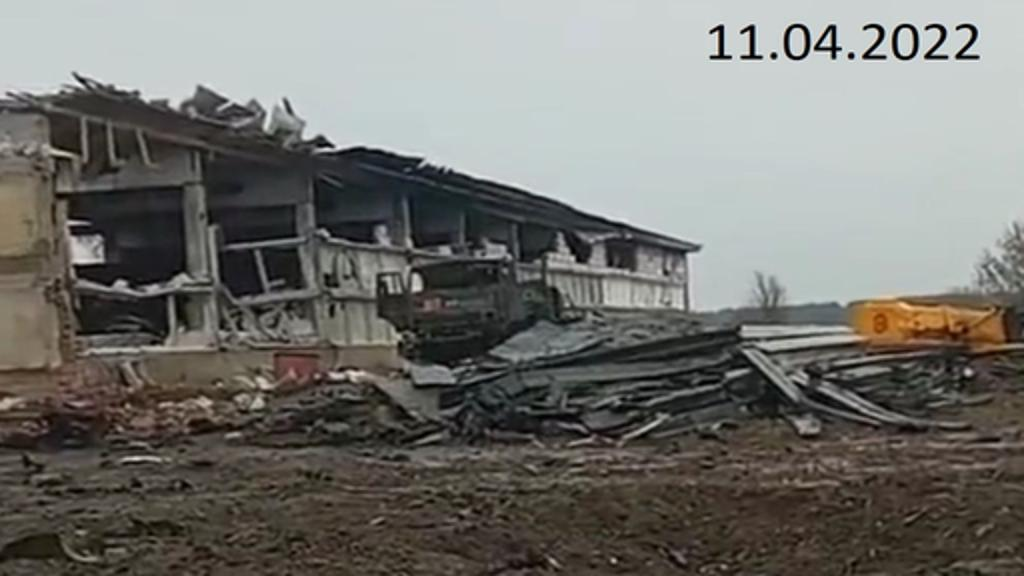TRUCK: (380, 242, 564, 374)
